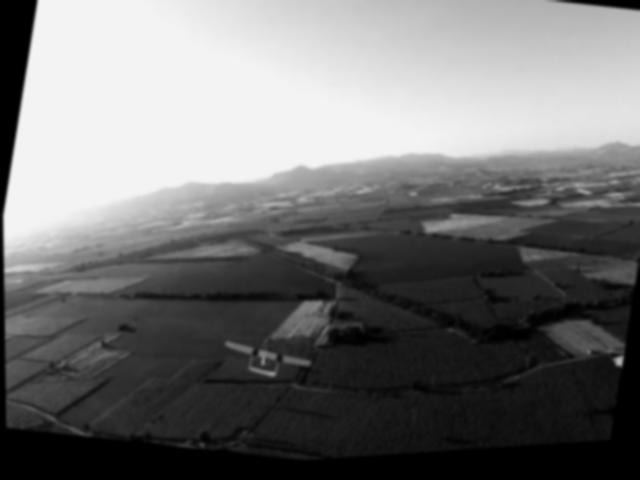hedef: (211, 331, 310, 394)
